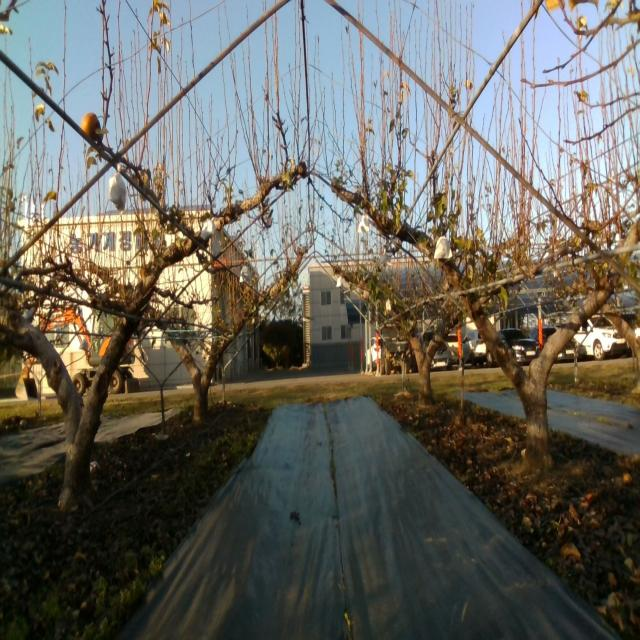pearbags: (108, 164, 126, 214), (434, 236, 453, 260), (200, 217, 216, 240), (378, 252, 392, 270), (357, 216, 370, 233)
